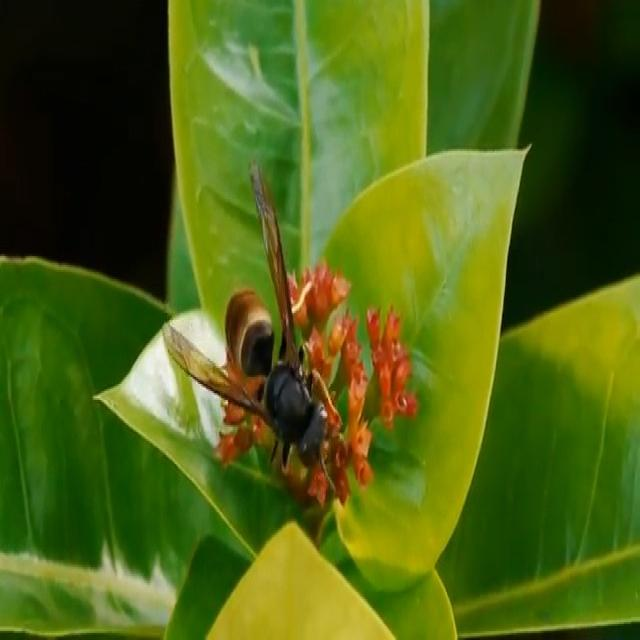Hornets: (160, 161, 332, 473)
